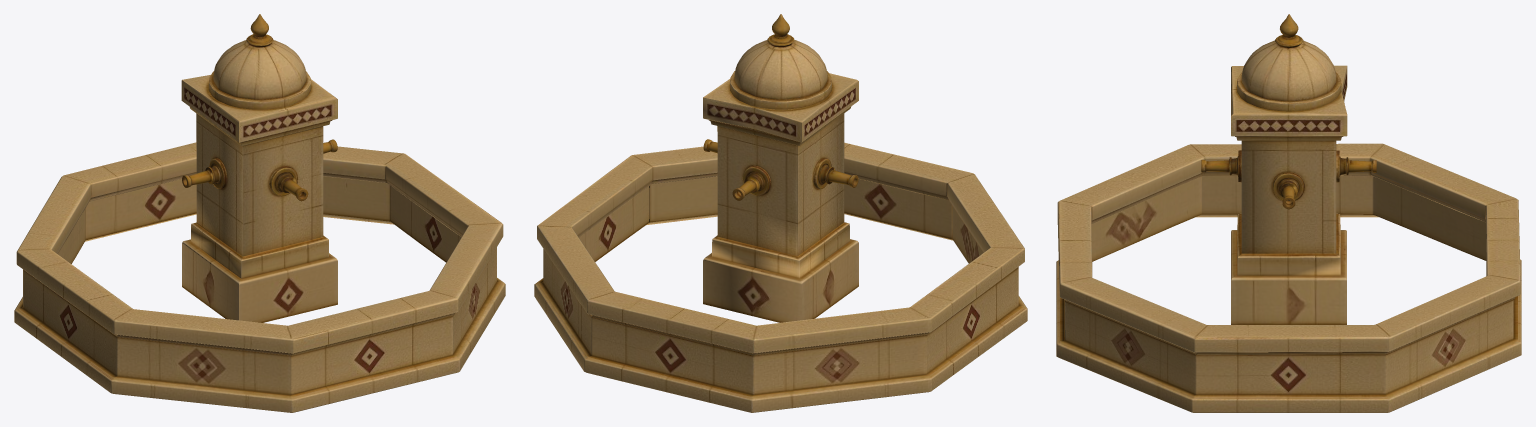
Rendered from Fuente_Brisalia.glb.
The picture shows the model from 3 angles, left to right: view 1: azimuth 30°, elevation 25°; view 2: azimuth 150°, elevation 25°; view 3: azimuth 270°, elevation 25°; orthographic projection.
Parts seen in each view (by area): view 1: tripo_node_6aefe84c-69a6-4aa2-9ccb-e3939fc9d054; view 2: tripo_node_6aefe84c-69a6-4aa2-9ccb-e3939fc9d054; view 3: tripo_node_6aefe84c-69a6-4aa2-9ccb-e3939fc9d054.
Boxes of the visible parts, x1,y1,x2,y2 form: tripo_node_6aefe84c-69a6-4aa2-9ccb-e3939fc9d054: (14, 14, 505, 412); tripo_node_6aefe84c-69a6-4aa2-9ccb-e3939fc9d054: (534, 14, 1027, 412); tripo_node_6aefe84c-69a6-4aa2-9ccb-e3939fc9d054: (1056, 14, 1521, 412).
Bounding box in the file's own units: 0.9995 × 0.7134 × 0.9995.
1 material, 1 textured.
